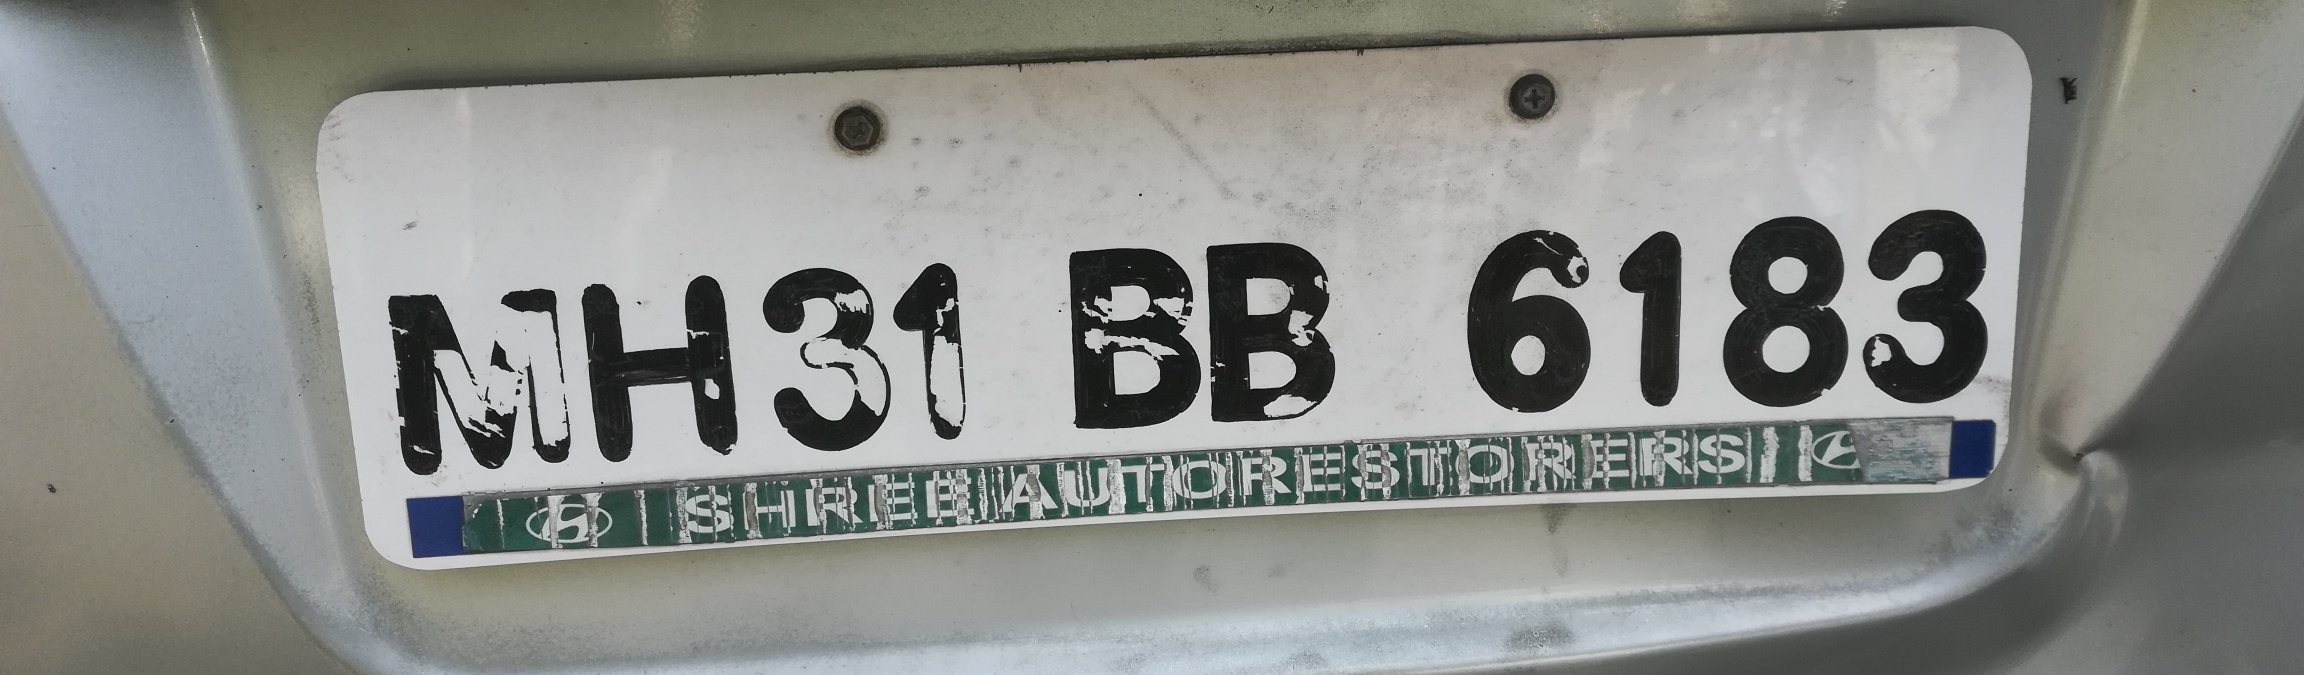numberplate: (297, 17, 2032, 572)
